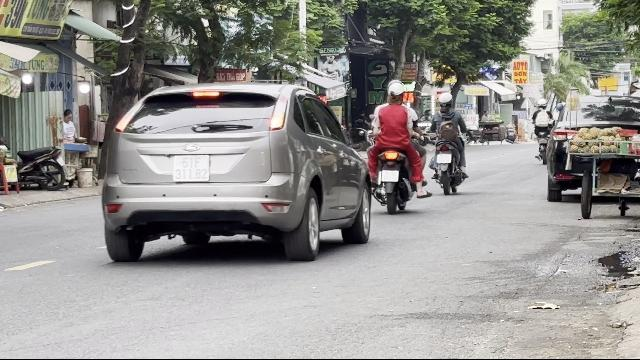helmet: (386, 80, 406, 104)
licenseplate: (382, 170, 398, 182)
motorcyclist: (364, 78, 426, 214)
